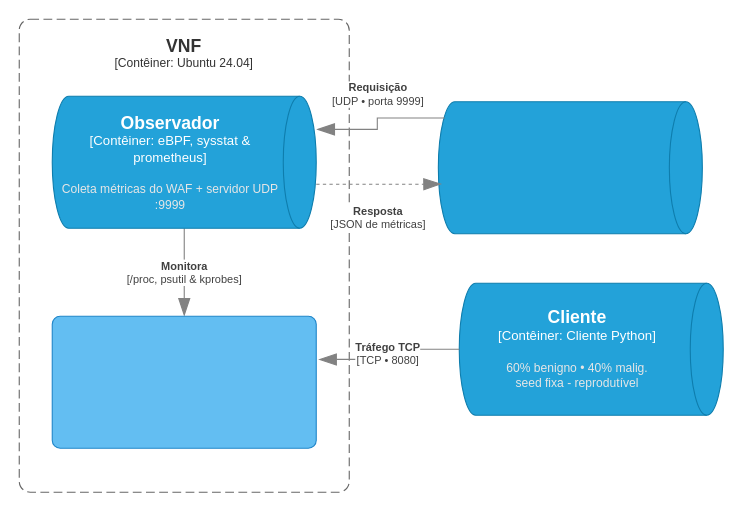
Some shapes in this 743 by 512 pixel diagram are drawn without their labels. The shapes that lost their labels are listed below. From the top down, each one's centre as x and y in pixels, then its label:
At point (569, 167): "Coletor [Contêiner: Python • Cliente UDP] Envia 1 requisição/s e mede o RTT".
At point (183, 381): "WAF [Component: Python • Servidor TCP] Inspeciona tráfego TCP porta 8080".
